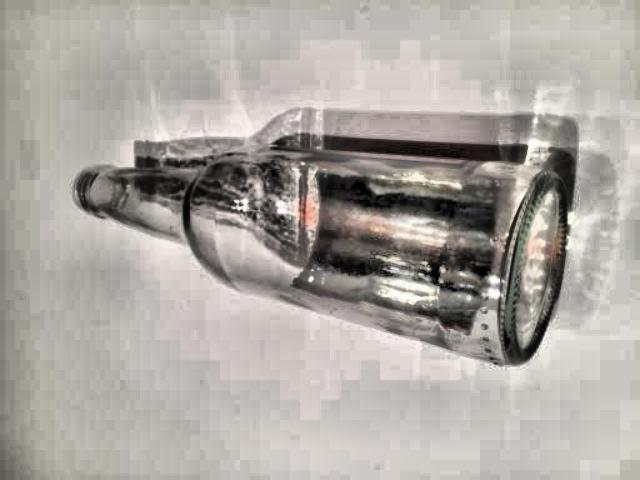Bottles: (60, 127, 581, 383)
